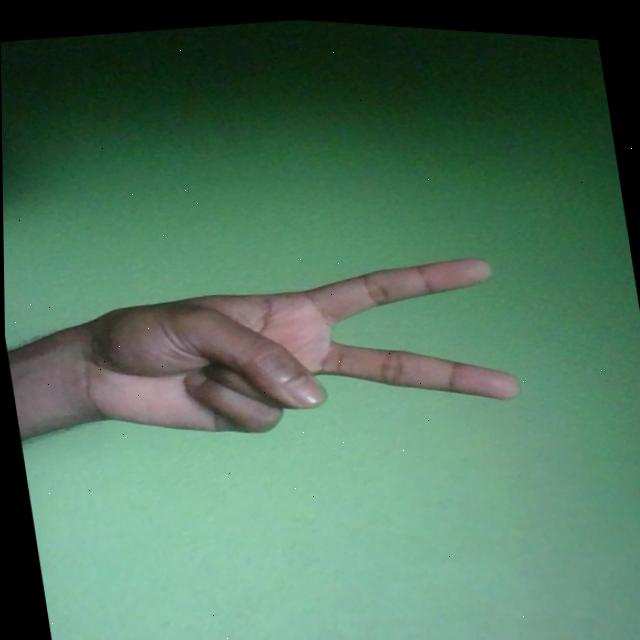Peace: (55, 224, 527, 469)
